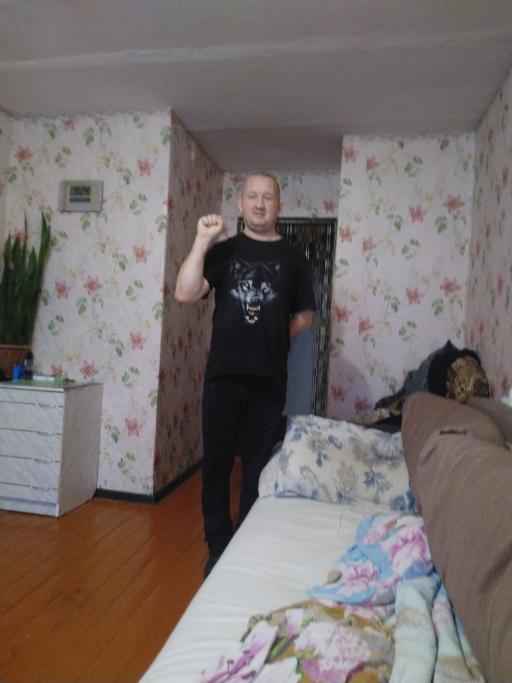fist: (189, 212, 229, 243)
